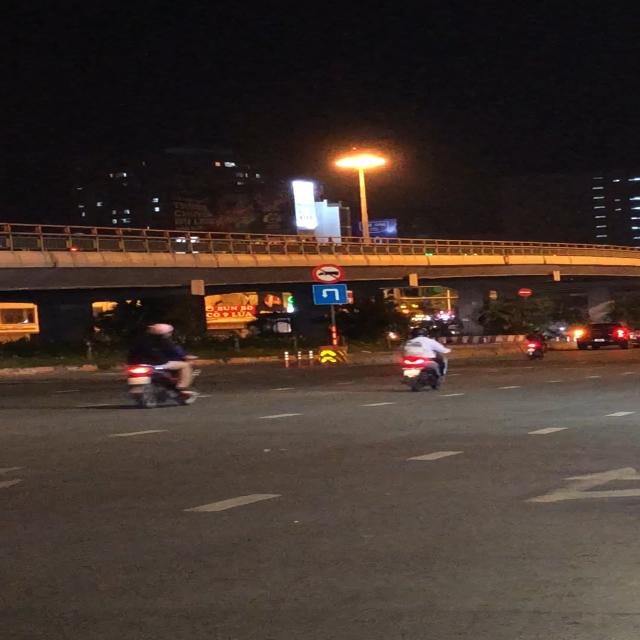Bien bao cam xe so-mi ro-mooc: (311, 263, 347, 284)
